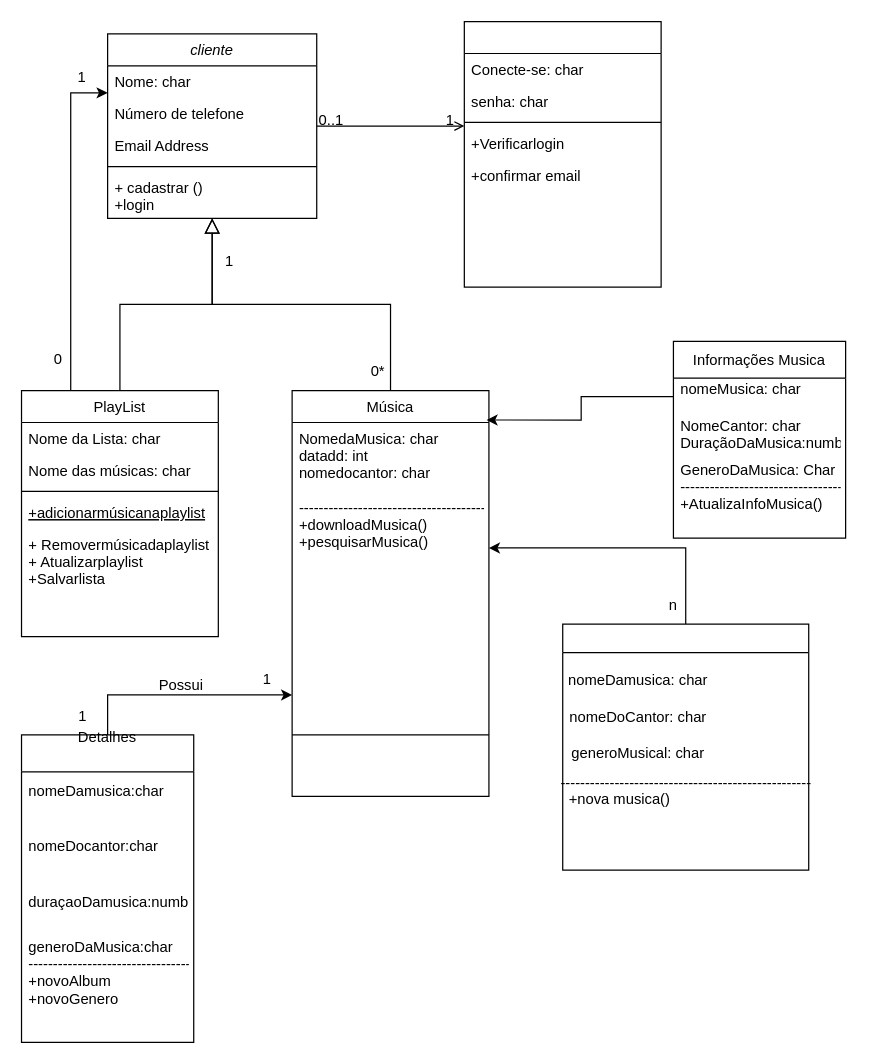
This 876x1064 diagram has some shape labels left out. Each missing label, with the box of its shape:
Pesquisa: (561, 623, 809, 870)
Usuário: (463, 20, 661, 287)
